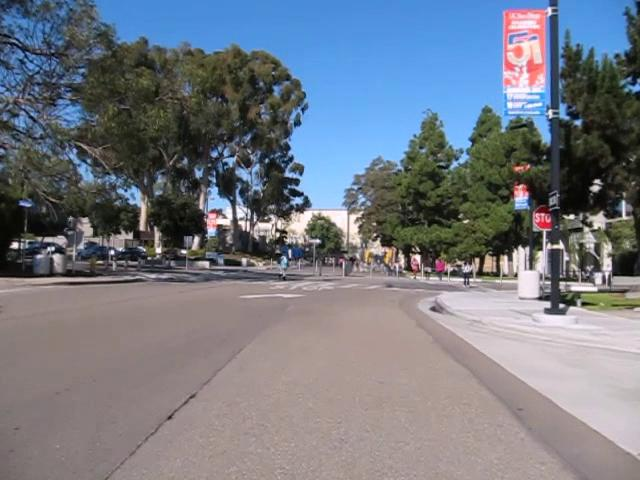stop: (532, 203, 559, 231)
